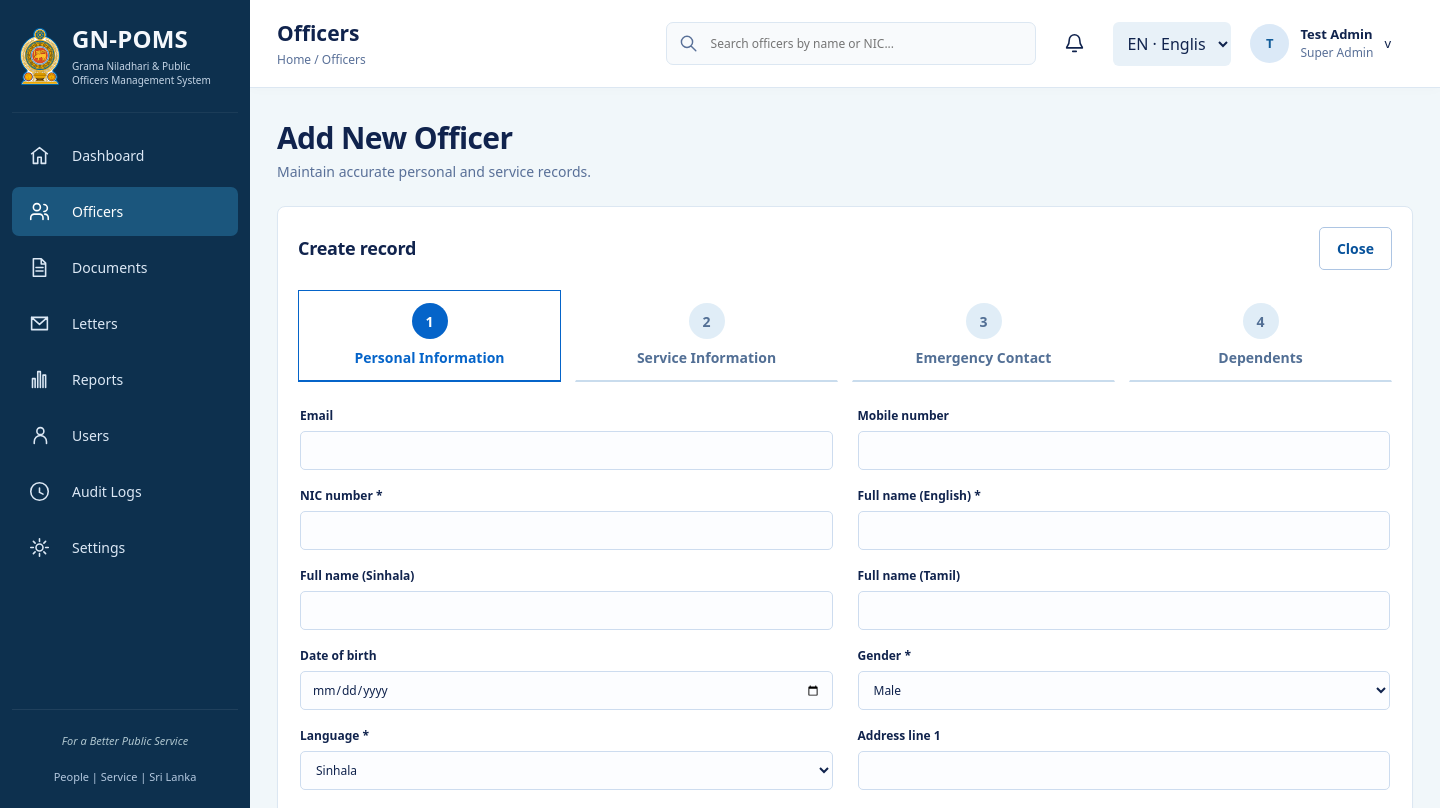
Test: React application workflows › retains officer form values while moving between steps
The image size is (1440, 808).
In the field labelled "Full name (English) *": (1124, 530) [858, 511, 1390, 550], type "Wizard Officer"
(page scrolled)
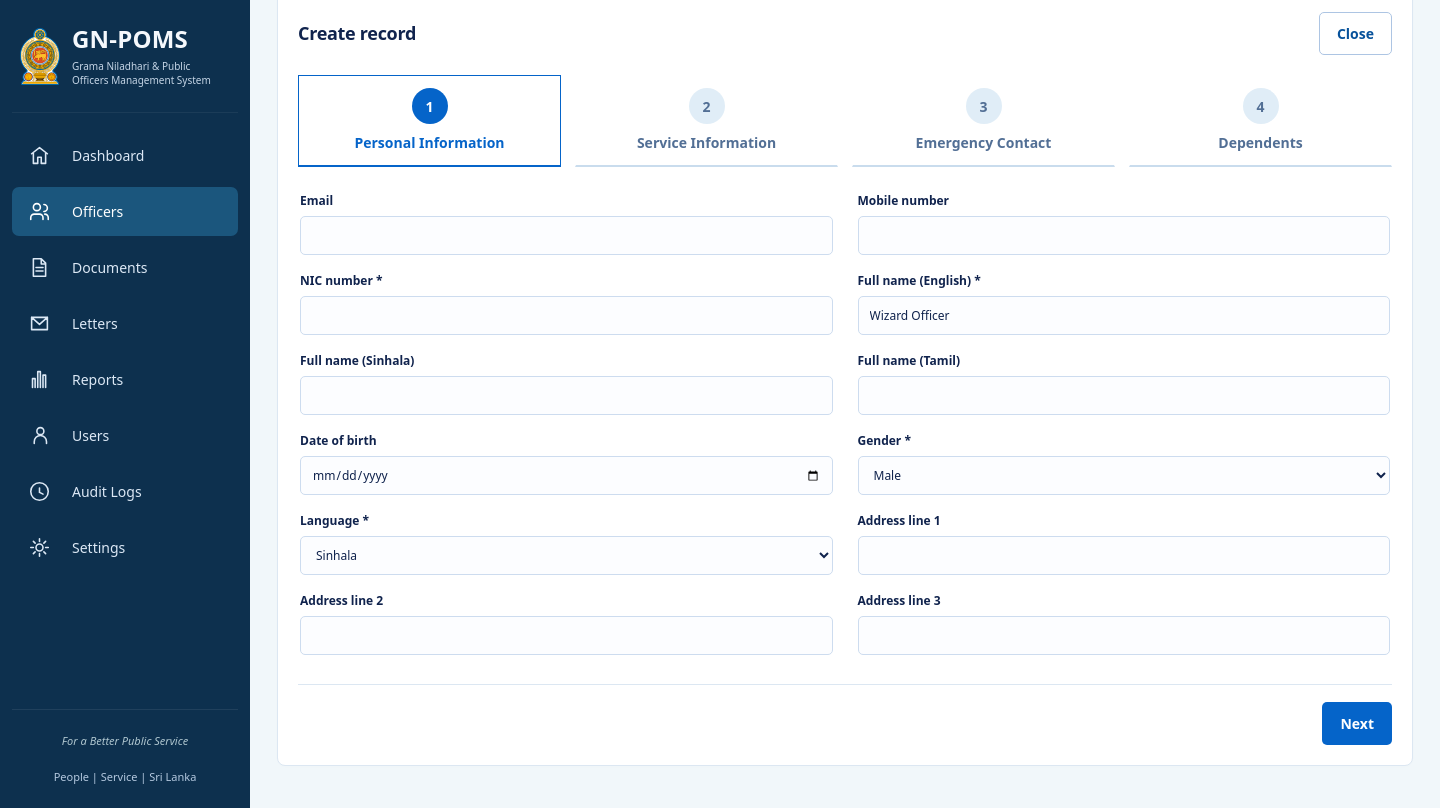
Submit the form named "Next", box [298, 192, 1392, 745]
(page scrolled)
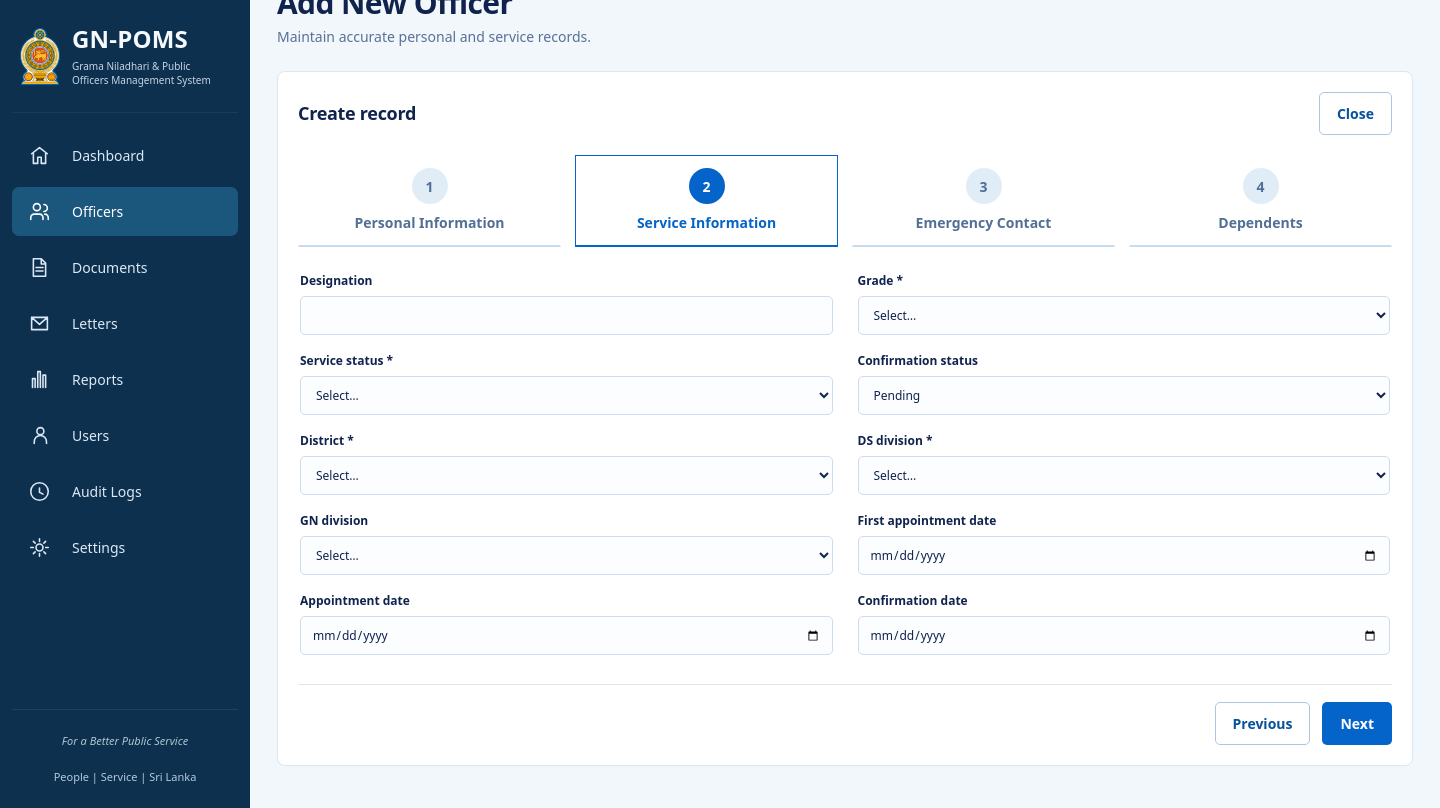
Check: the dropdown labelled "District *" is shown, box [300, 456, 832, 495]
Click the button "Previous": click(1262, 724) [1214, 702, 1310, 745]
(page scrolled)
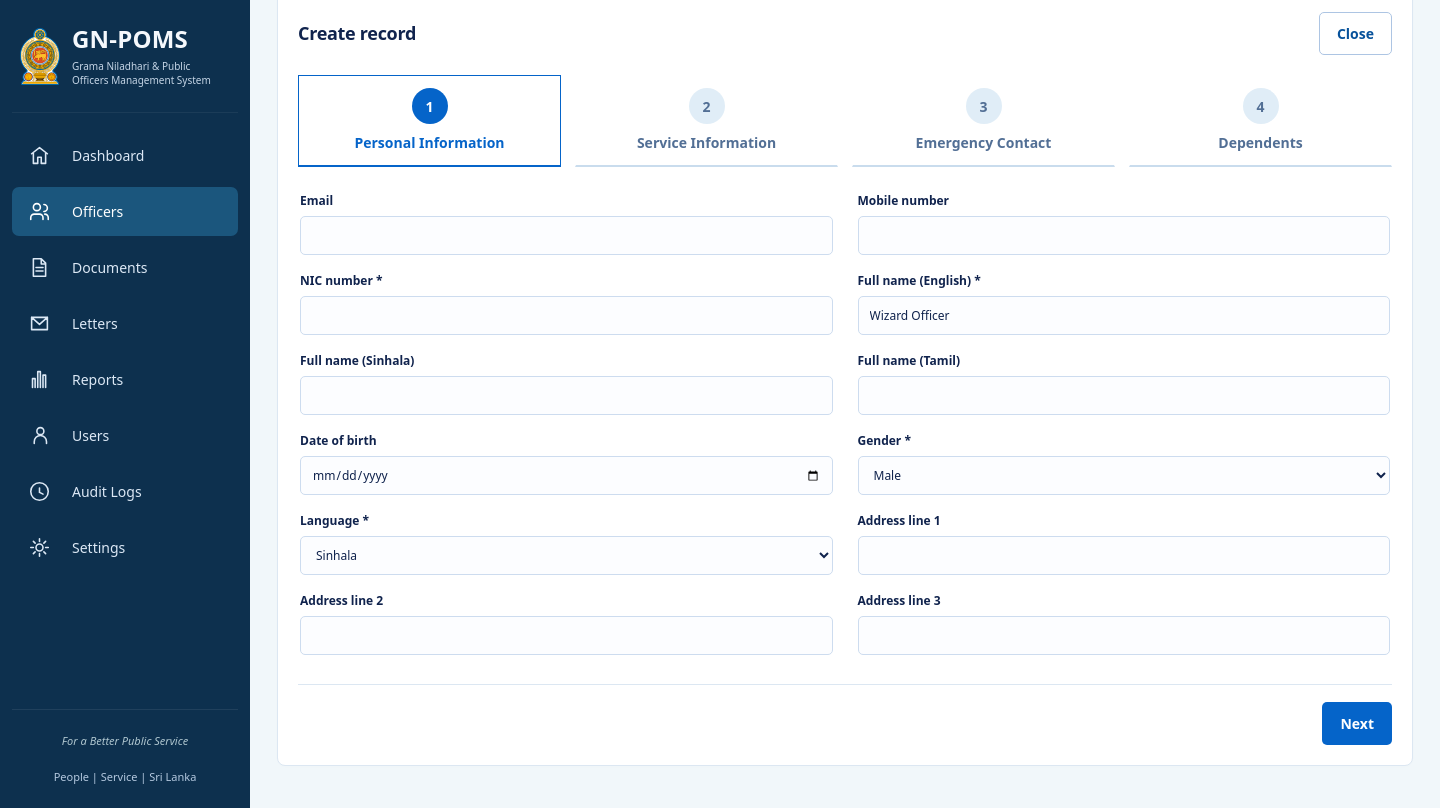
Check: the field labelled "Full name (English) *" holds "Wizard Officer", box [858, 296, 1390, 335]
